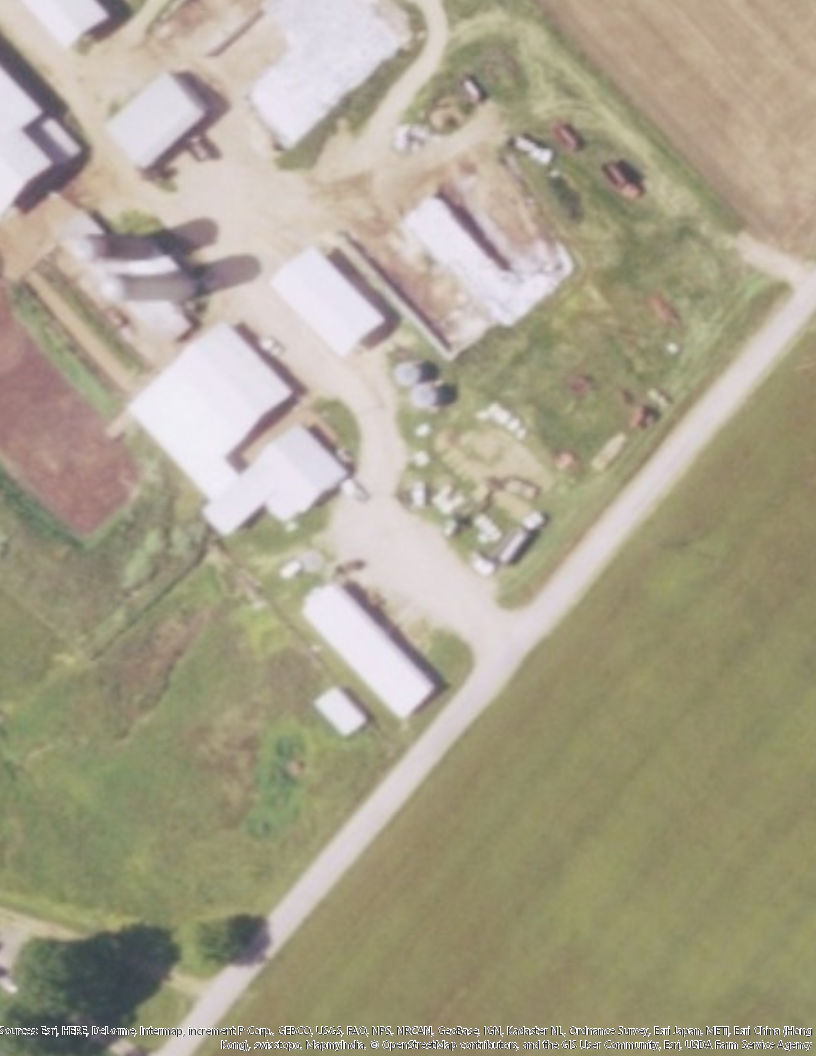cafo: (125, 316, 358, 540), (298, 573, 448, 721), (266, 244, 386, 358)
